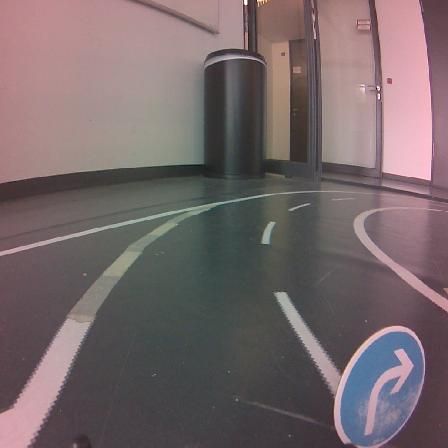RIGHT_TURN: (334, 326, 424, 447)
